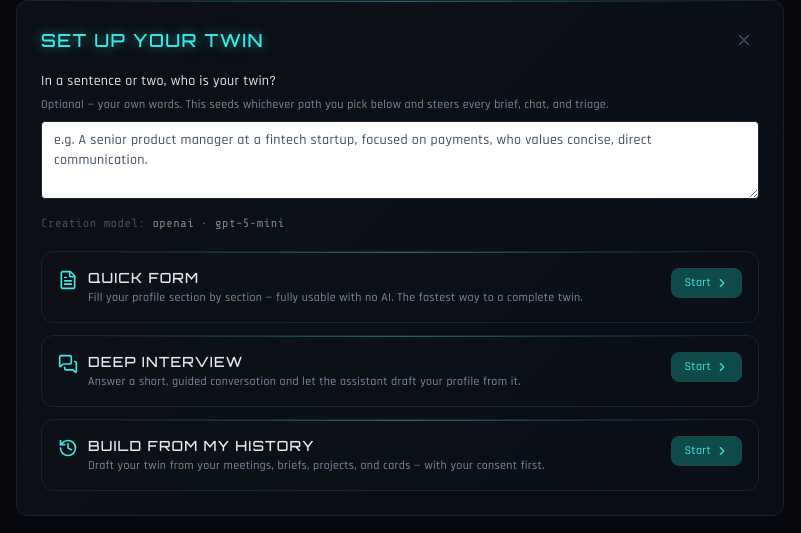
Test: TwinWizard — Quick form step flow › Back returns to the previous step
Click the button with aria-label "start quick form" at x=707, y=283, box [671,268,742,298]
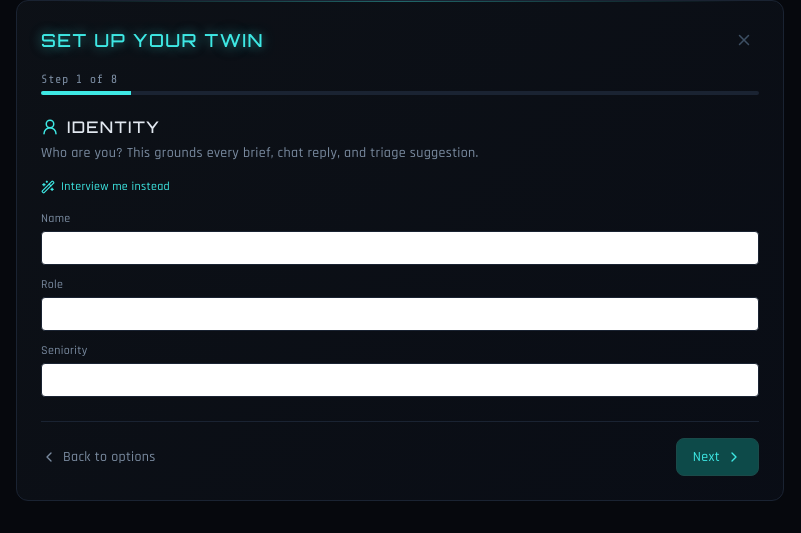
Click the button "Next" at x=717, y=457, box [676,438,759,476]
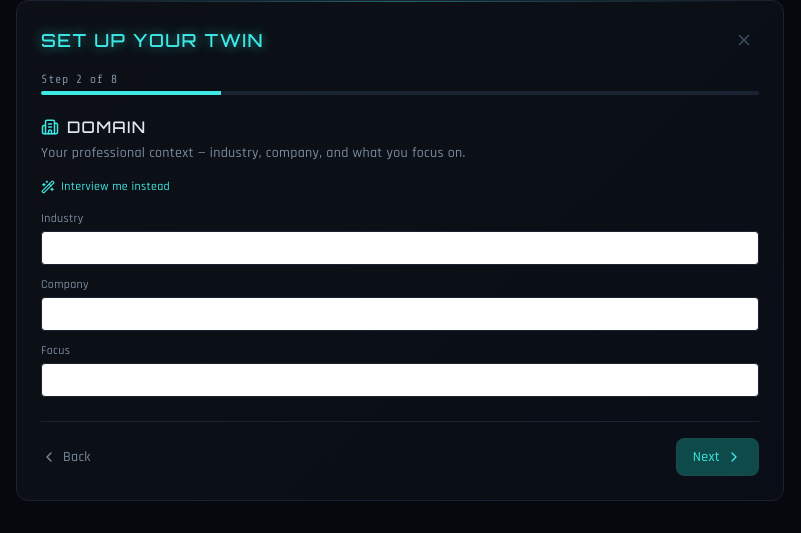
Check: the text "Step 2 of 8" is shown, box [41,72,118,86]
Click the button "Back" at x=66, y=457, box [41,447,91,467]
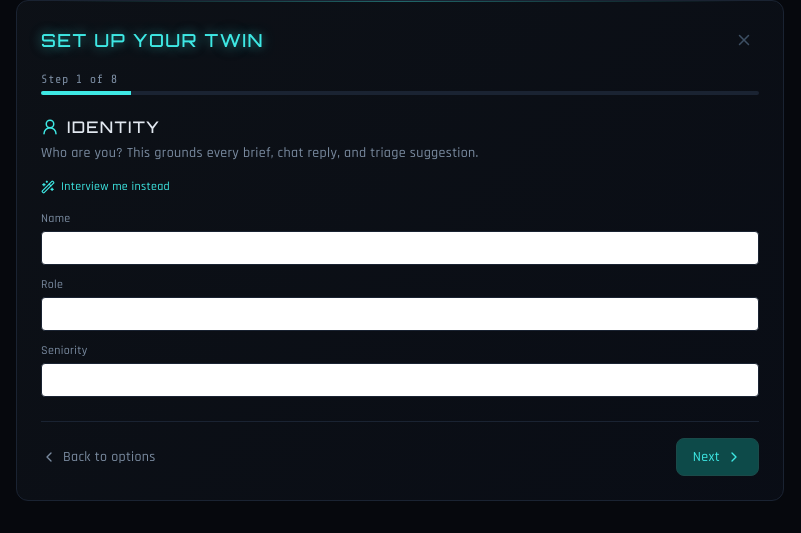
Check: the text "Step 1 of 8" is shown, box [41,72,118,86]
